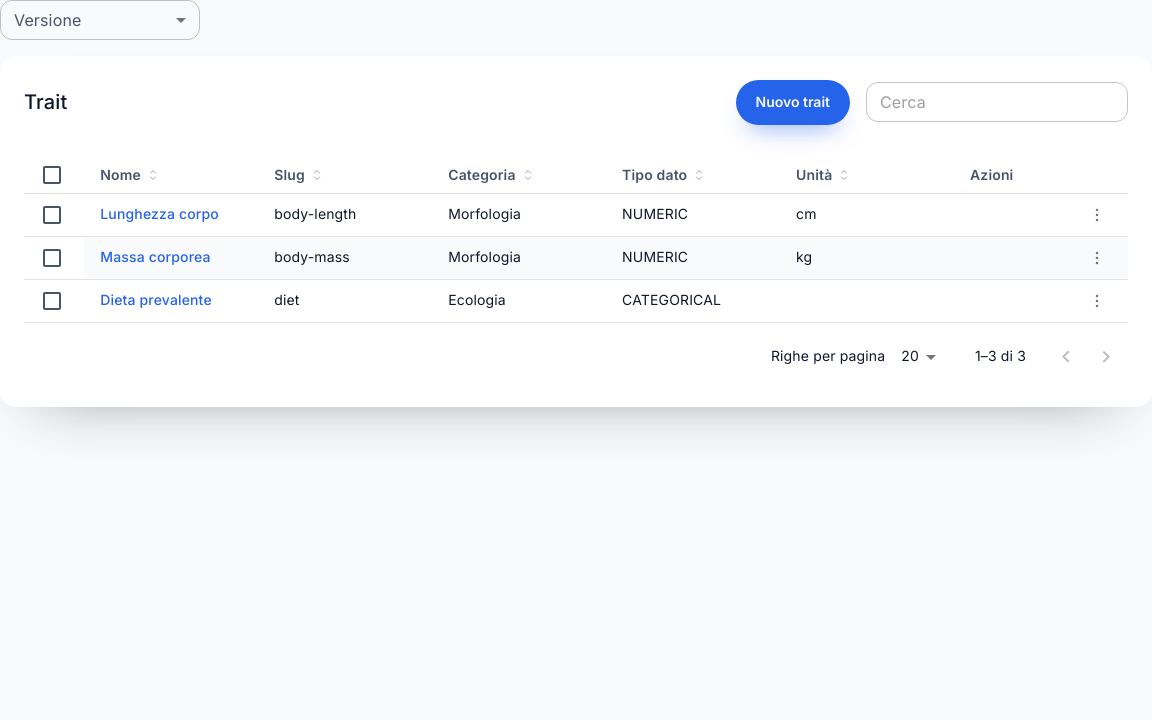
TraitListPage › exposes bulk-edit (Modifica button after select-all)
Expected: the link "Lunghezza corpo" is shown, [100, 205, 219, 222]
Click the checkbox named "Seleziona tutte le righe": {"x": 52, "y": 175} [40, 163, 64, 187]
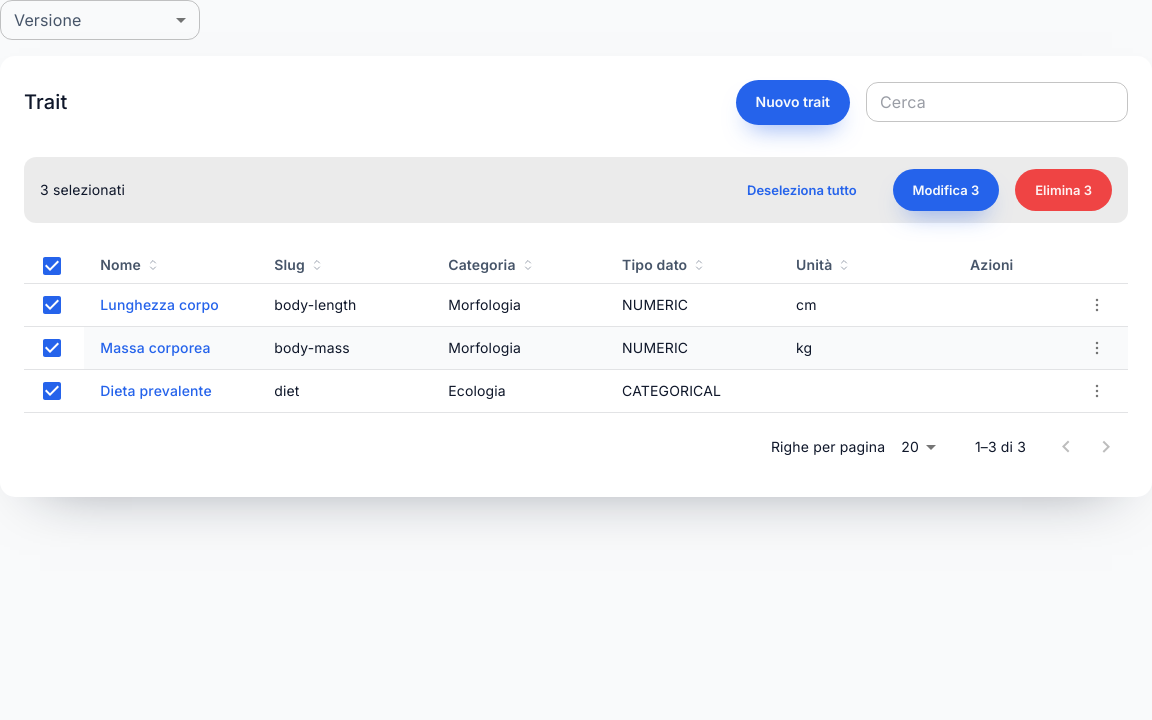
Now the button "Modifica 3" is shown, box [893, 168, 999, 211]
